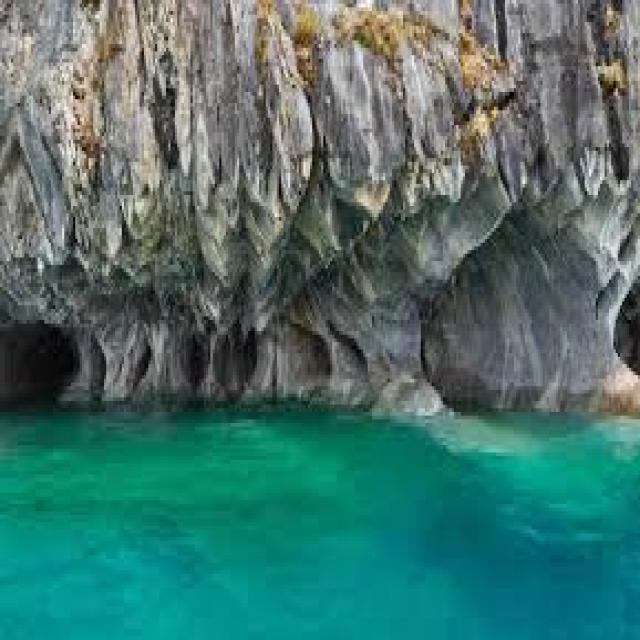Metamorphic: (2, 4, 631, 419)
